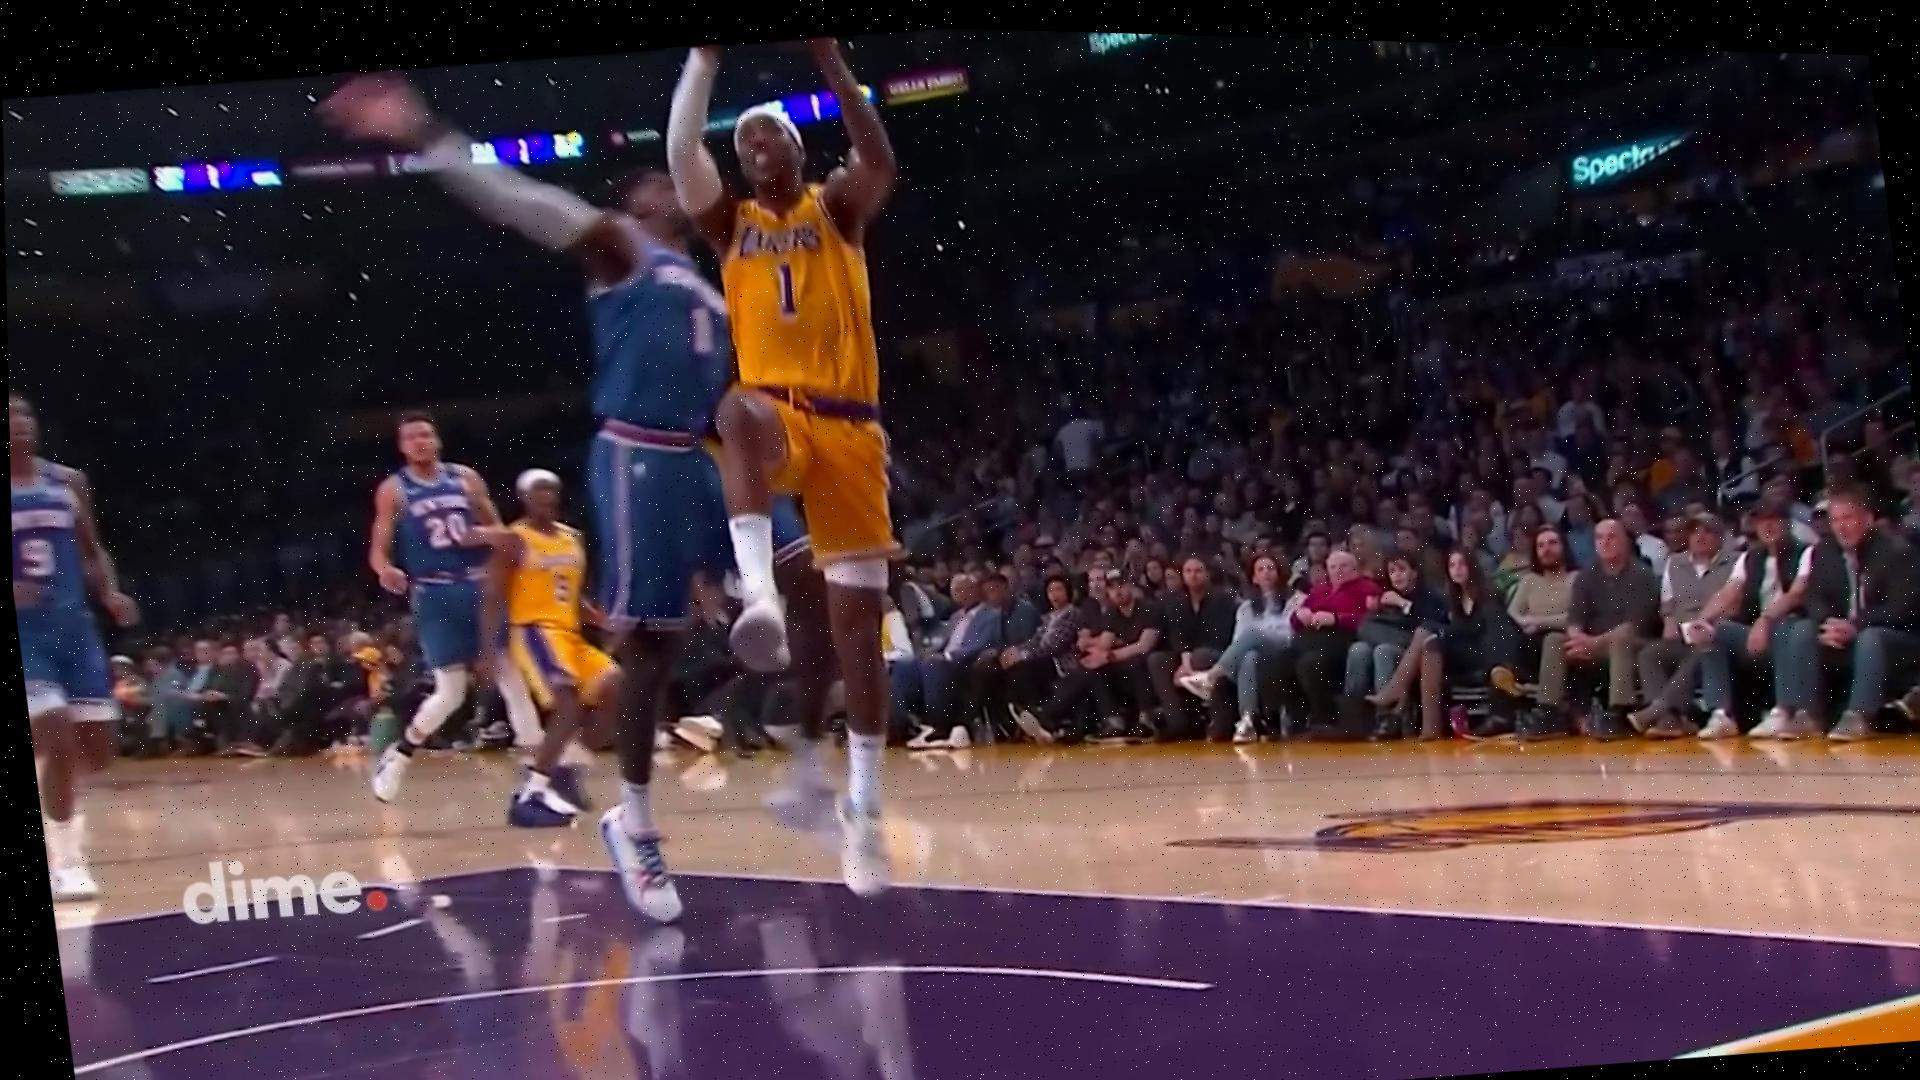no_foul: (349, 16, 993, 961)
